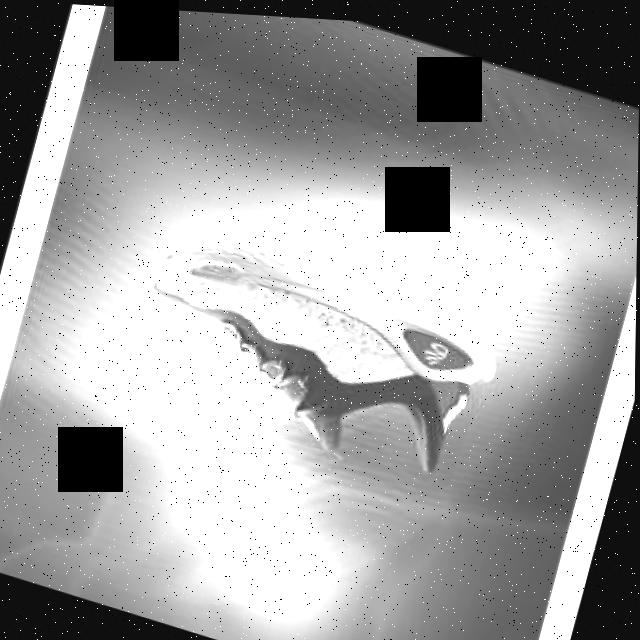shoe: (126, 215, 506, 490)
